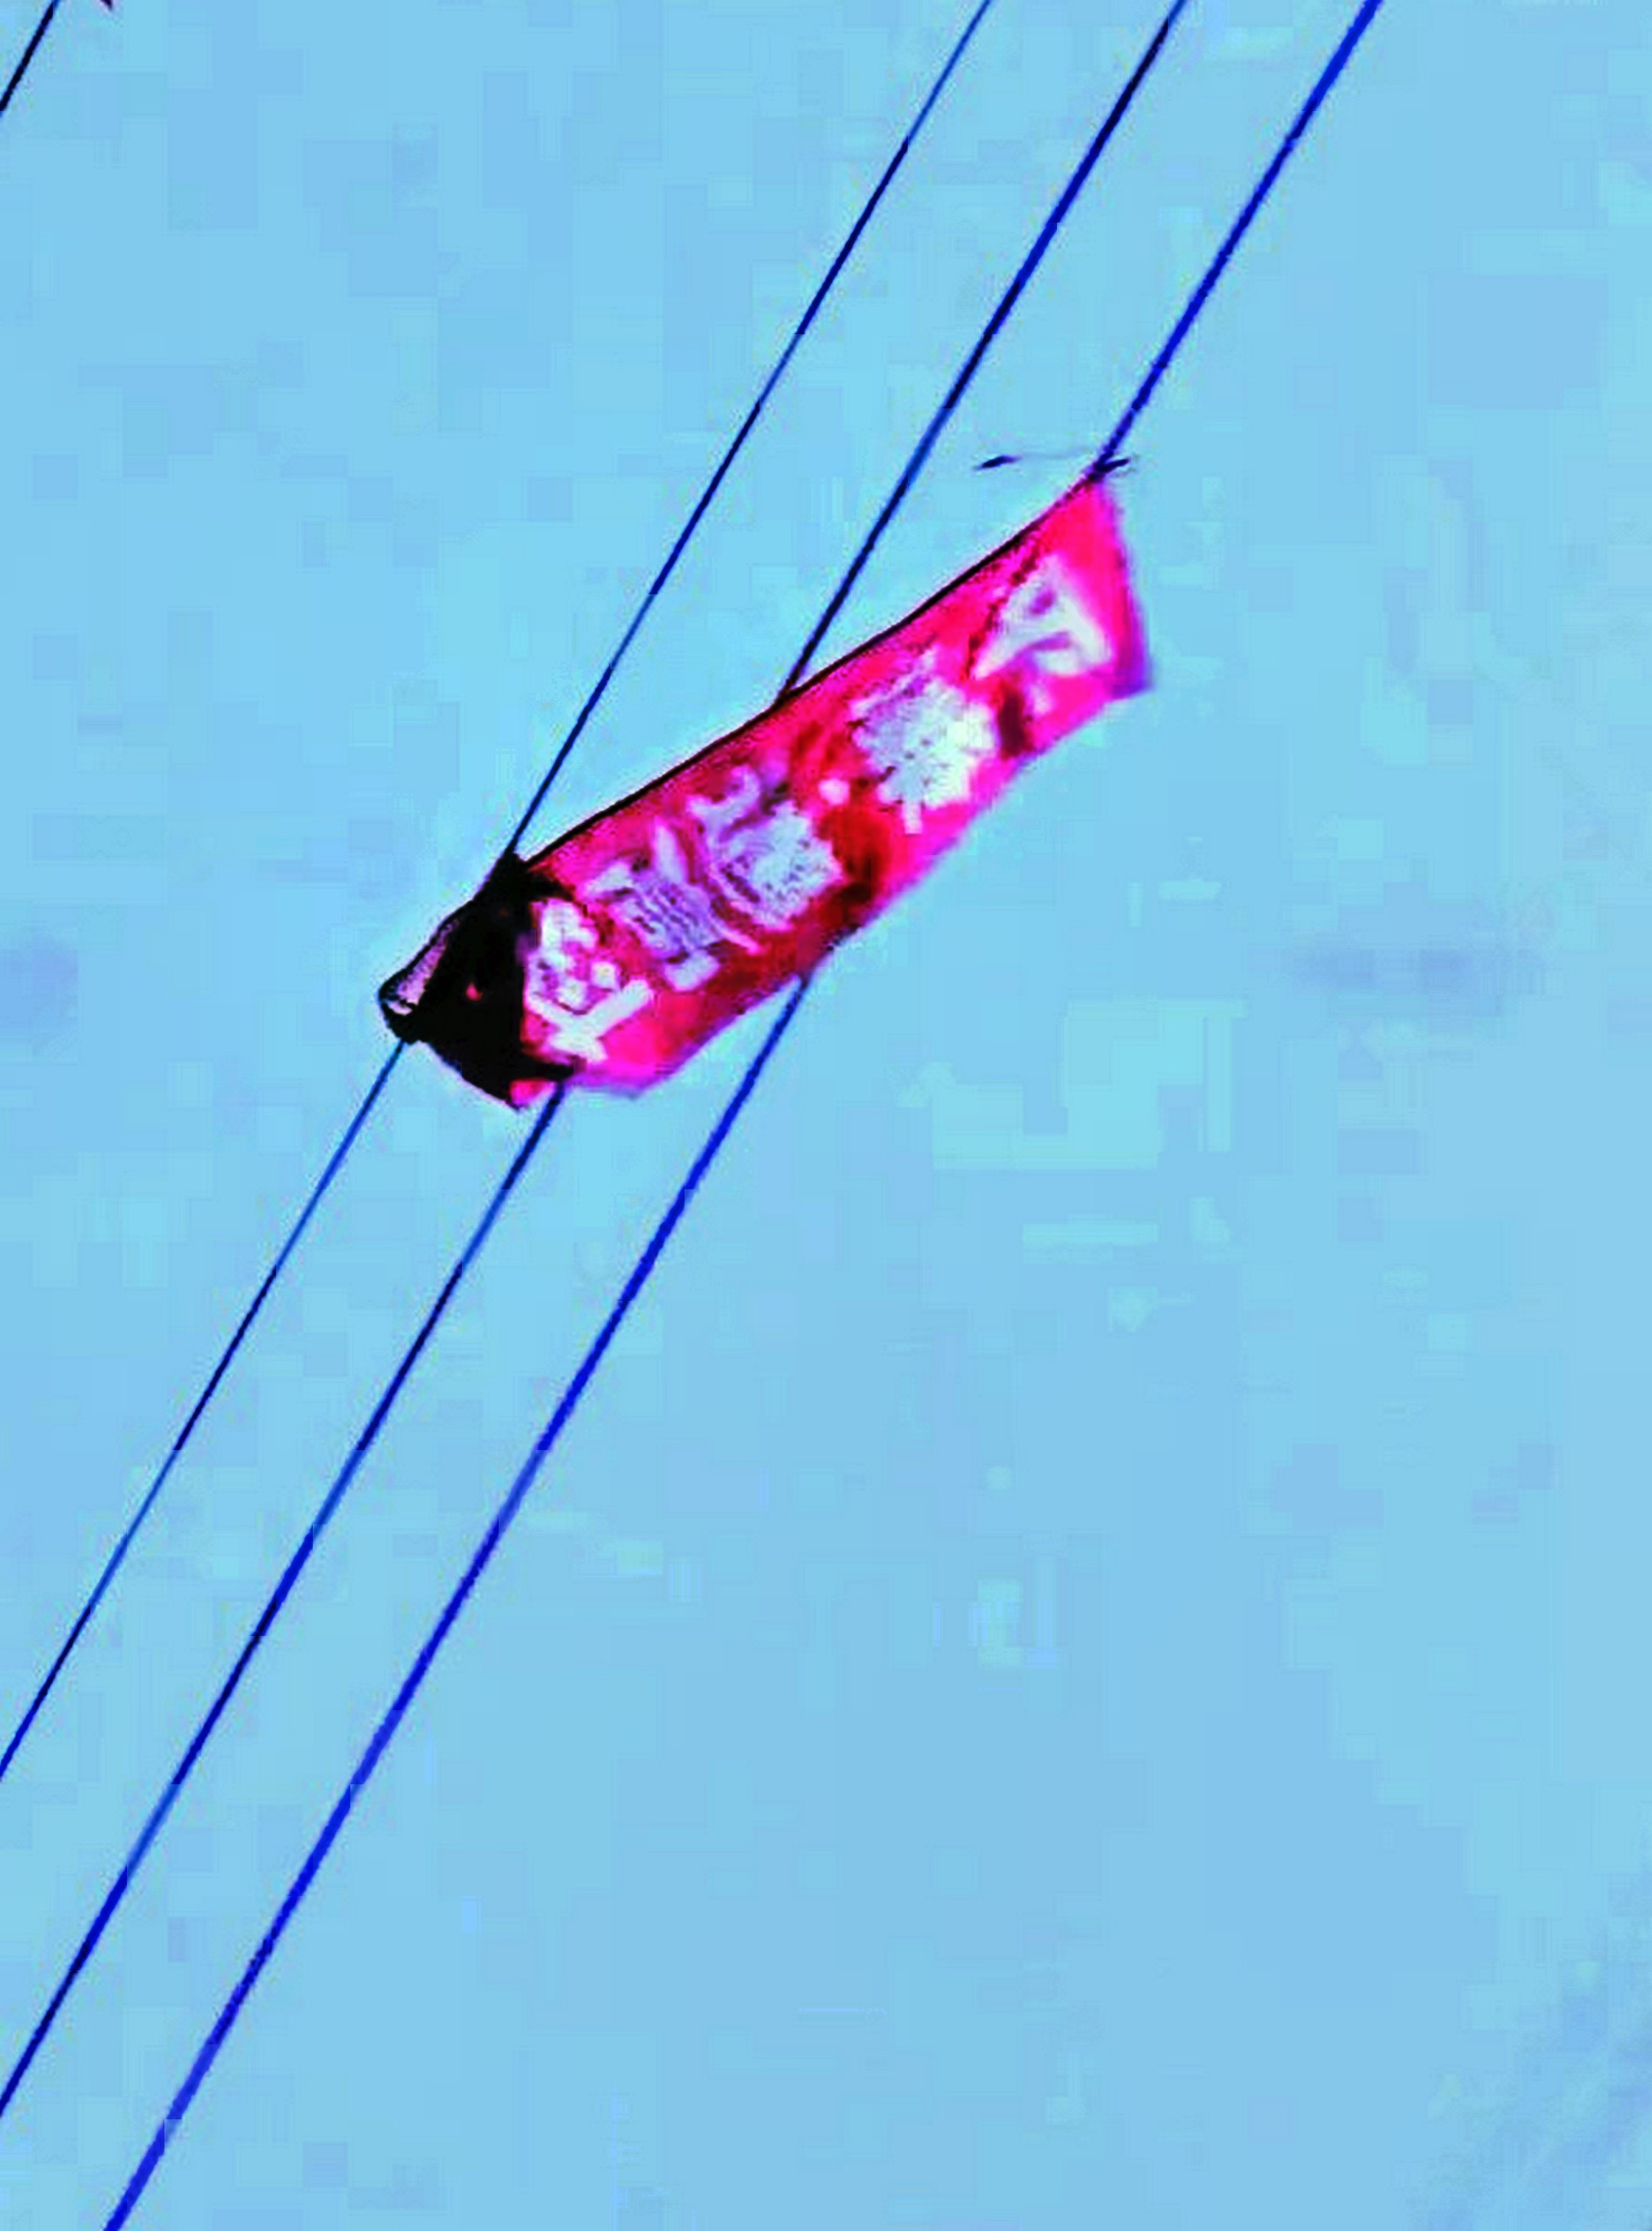wire foreign body: (375, 409, 1197, 1122)
